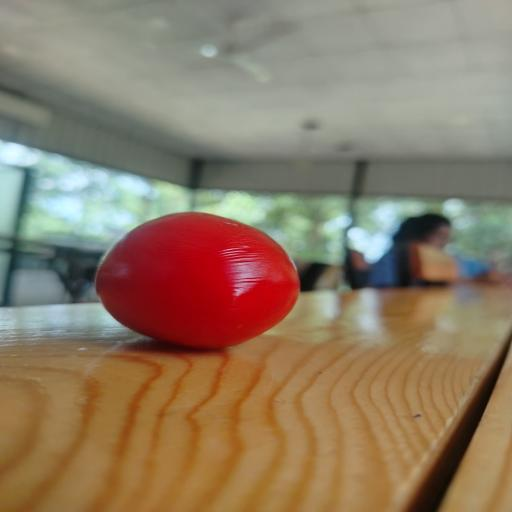spoiled: (96, 213, 299, 348)
